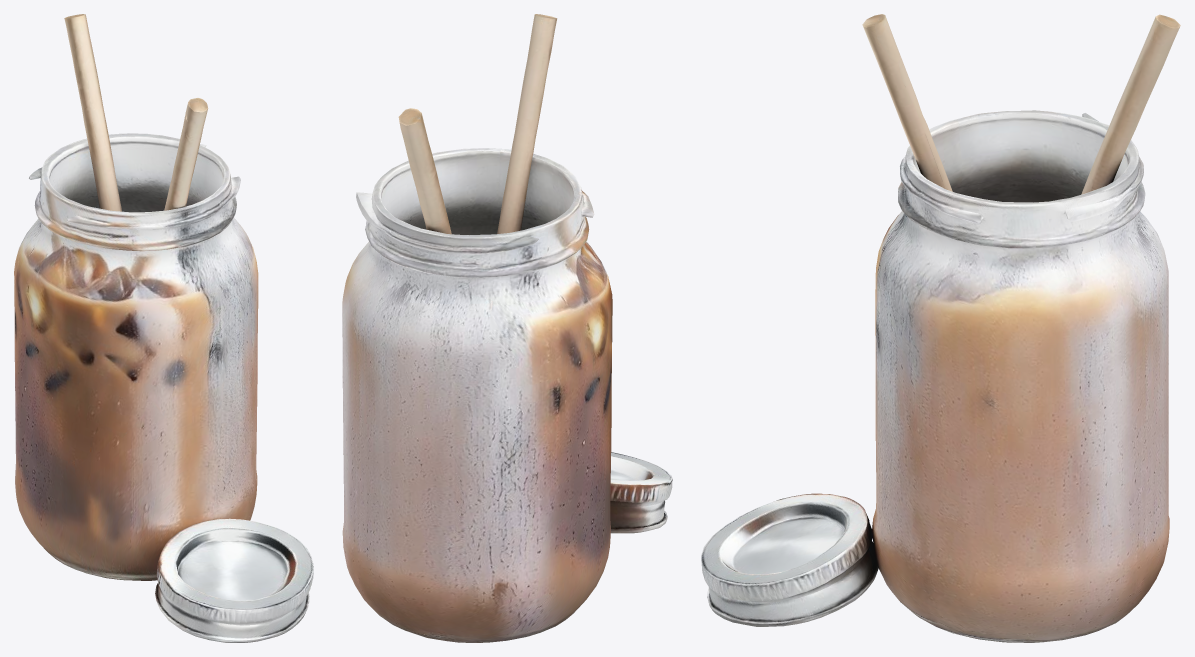
Rendered from jar.glb.
3 renders of one model, left to right at view 1: azimuth 30°, elevation 25°; view 2: azimuth 150°, elevation 25°; view 3: azimuth 270°, elevation 25°, orthographic. The views are drawn at different scales.
Visible parts, largest first — view 1: model; view 2: model; view 3: model.
Boxes of the visible parts, x1,y1,x2,y2 form: model: (14,14,313,642); model: (342,14,672,642); model: (701,14,1180,642).
Size of the model in its own units: 0.8557 by 1.9 by 1.42.
1 material, 1 textured.
